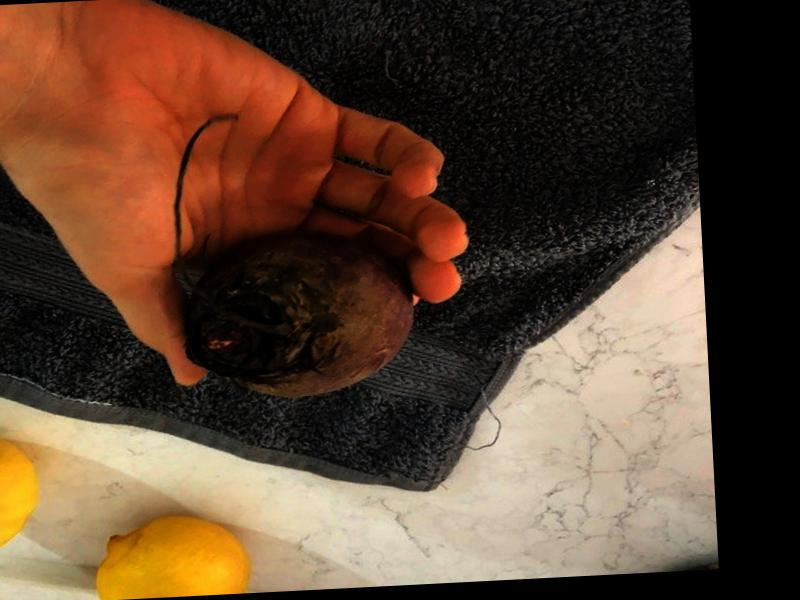Beet: (175, 105, 421, 403)
